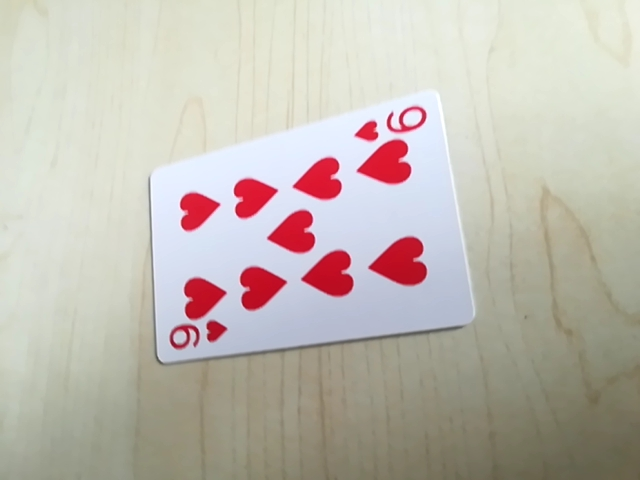hx 9: (354, 100, 432, 142), (163, 318, 231, 359)
